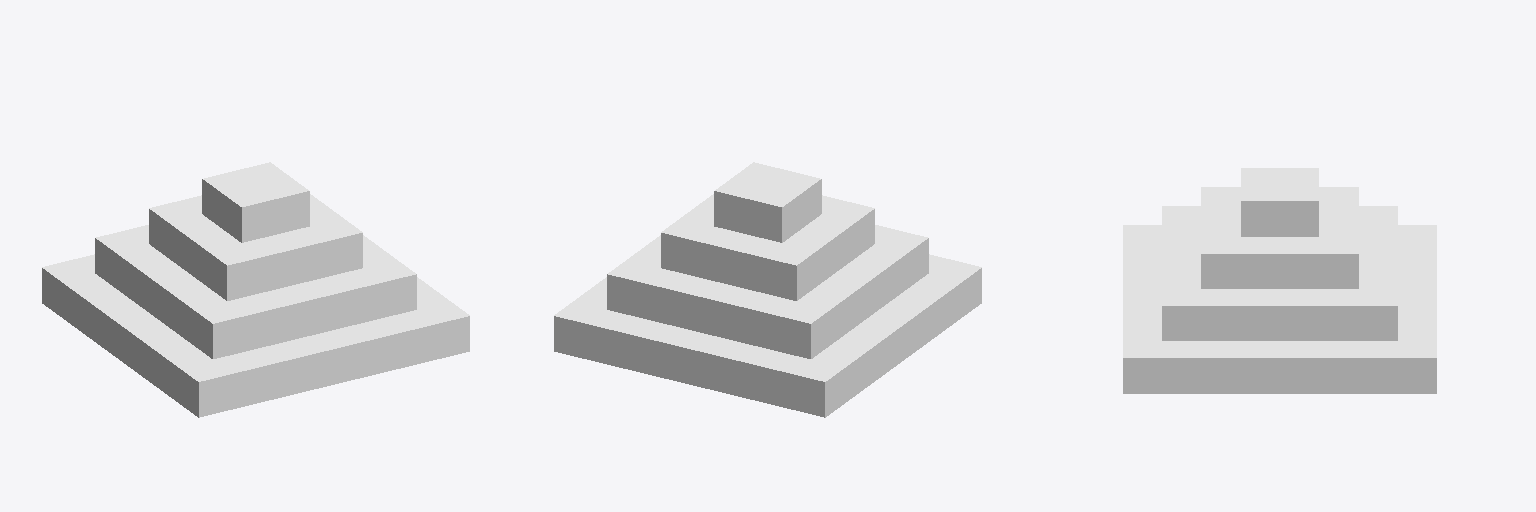
Rendered from toy-store-10-toy1.obj.
3 renders of one model, left to right at view 1: azimuth 30°, elevation 25°; view 2: azimuth 150°, elevation 25°; view 3: azimuth 270°, elevation 25°, orthographic.
Parts seen in each view (by area): view 1: toy1; view 2: toy1; view 3: toy1.
Part boxes in pixels (x1,y1,x2,y2): toy1: (42,162,469,417); toy1: (554,162,981,417); toy1: (1123,168,1436,393).
Bounding box in the file's own units: 0.8 × 0.4 × 0.8.